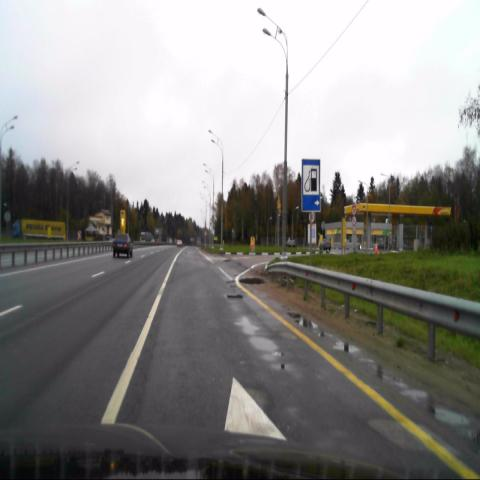7_3: (302, 158, 320, 214)
